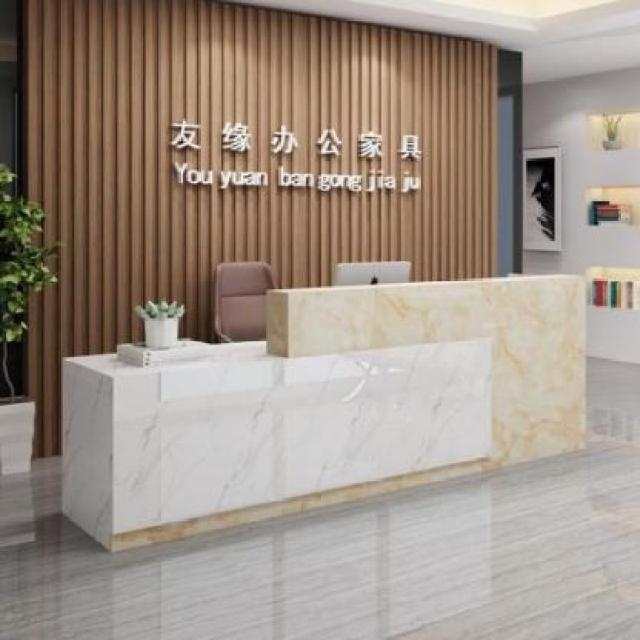frontdesk: (57, 263, 597, 559)
